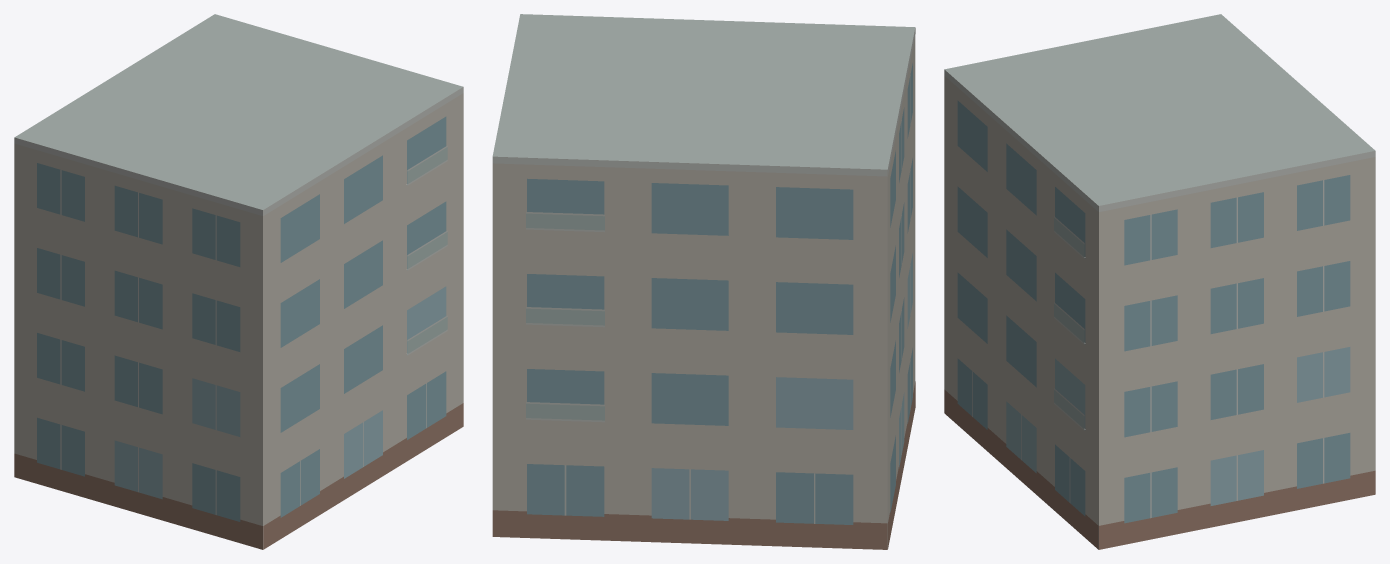
Rendered from survey-upis-32963957.glb.
The picture shows the model from 3 angles, left to right: view 1: azimuth 30°, elevation 25°; view 2: azimuth 150°, elevation 25°; view 3: azimuth 270°, elevation 25°; orthographic projection. The views are drawn at different scales.
Visible parts, largest first — view 1: survey-upis-32963957.tmp; view 2: survey-upis-32963957.tmp; view 3: survey-upis-32963957.tmp.
Boxes of the visible parts, x1,y1,x2,y2 form: survey-upis-32963957.tmp: (14,14,463,549); survey-upis-32963957.tmp: (492,14,915,549); survey-upis-32963957.tmp: (944,14,1375,549).
Bounding box in the file's own units: 16.3 × 13.6 × 15.47.
